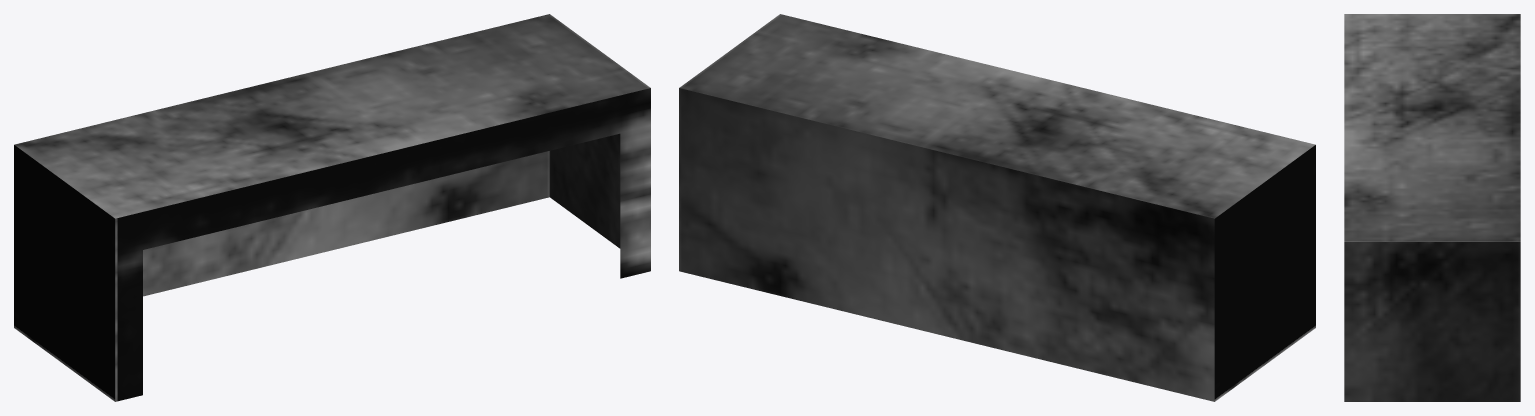
Rendered from table.fbx.
3 views of the same model, side by side, from view 1: azimuth 30°, elevation 25°; view 2: azimuth 150°, elevation 25°; view 3: azimuth 270°, elevation 25° (orthographic). The views are drawn at different scales.
Parts seen in each view (by area): view 1: Cube; view 2: Cube; view 3: Cube.
Part boxes in pixels (x1=…): Cube: x1=14, y1=14, x2=650, y2=401; Cube: x1=679, y1=14, x2=1315, y2=401; Cube: x1=1344, y1=14, x2=1520, y2=401.
Bounding box in the file's own units: 612 × 200 × 200.
